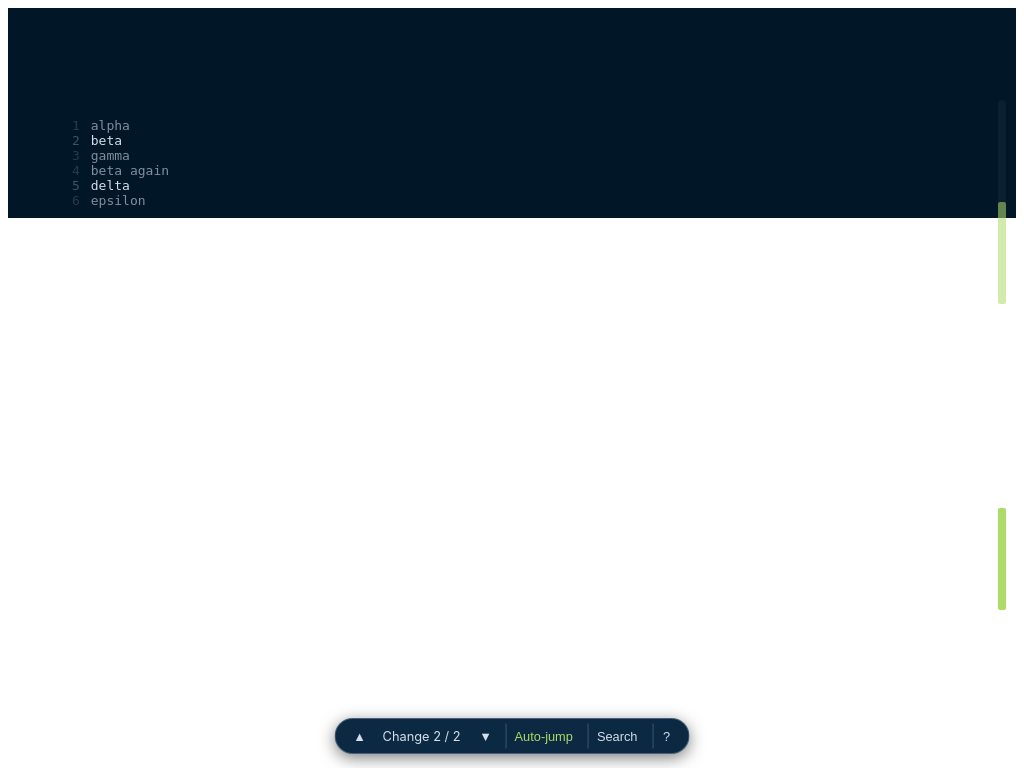
Test case: search › Escape closes search and clears highlights
Click the button "Search".
click(617, 736)  # box [588,723,646,749]
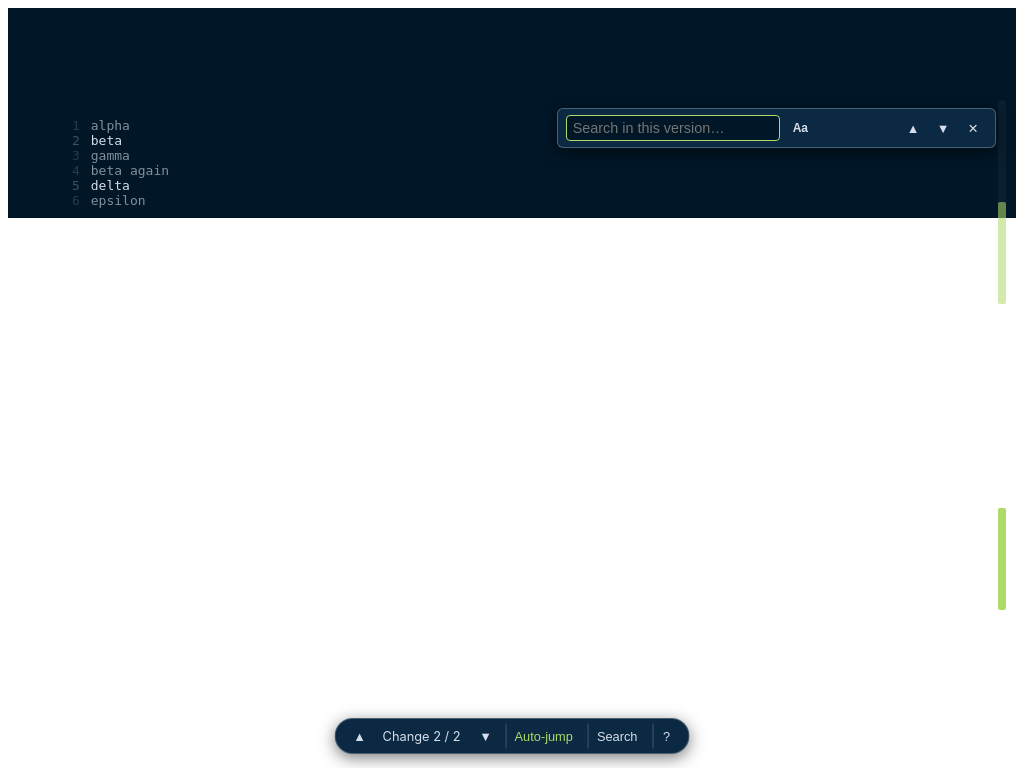
Type "alpha" into the field with placeholder "Search in this version…".
click(673, 128); type("alpha")  # box [566,115,780,141]
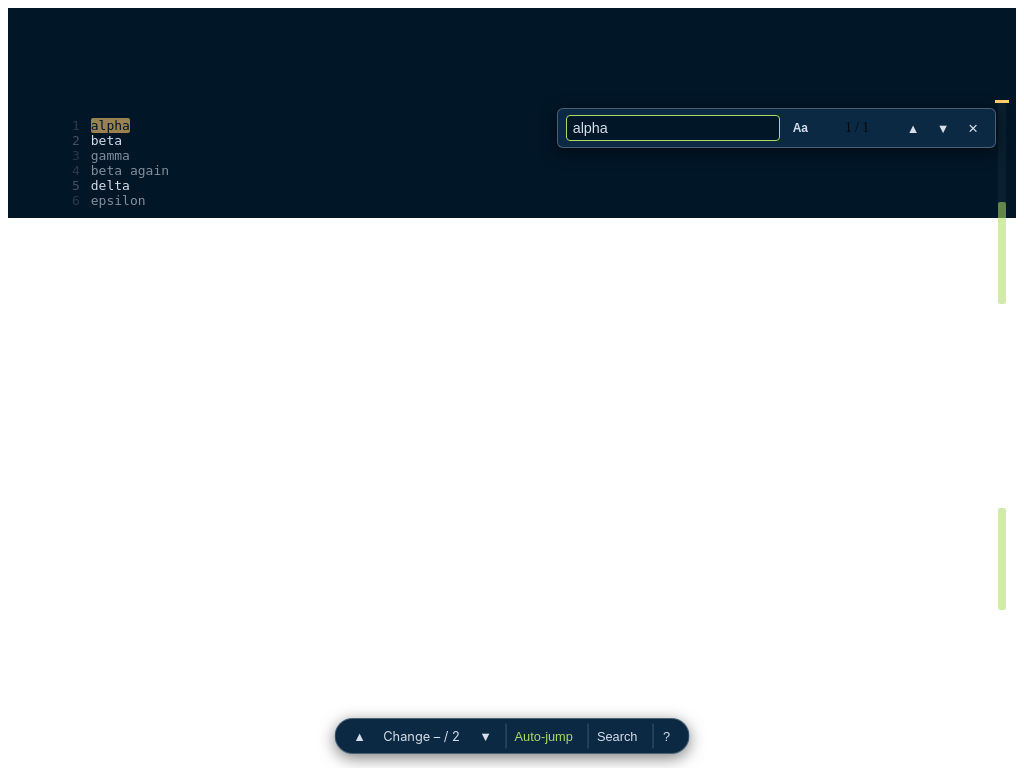
Press Escape in the field, box [566,115,780,141]
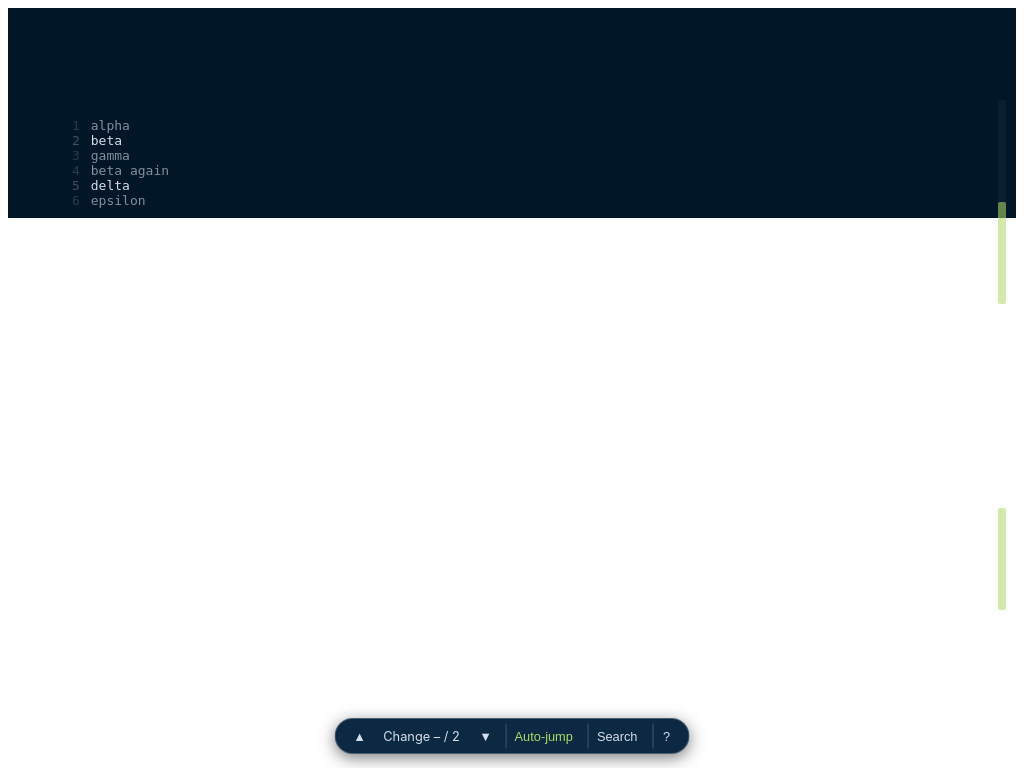
Now the element with class "search-bar" is gone
